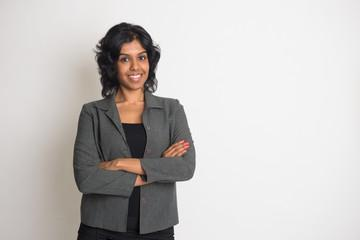Human: (69, 25, 196, 240)
